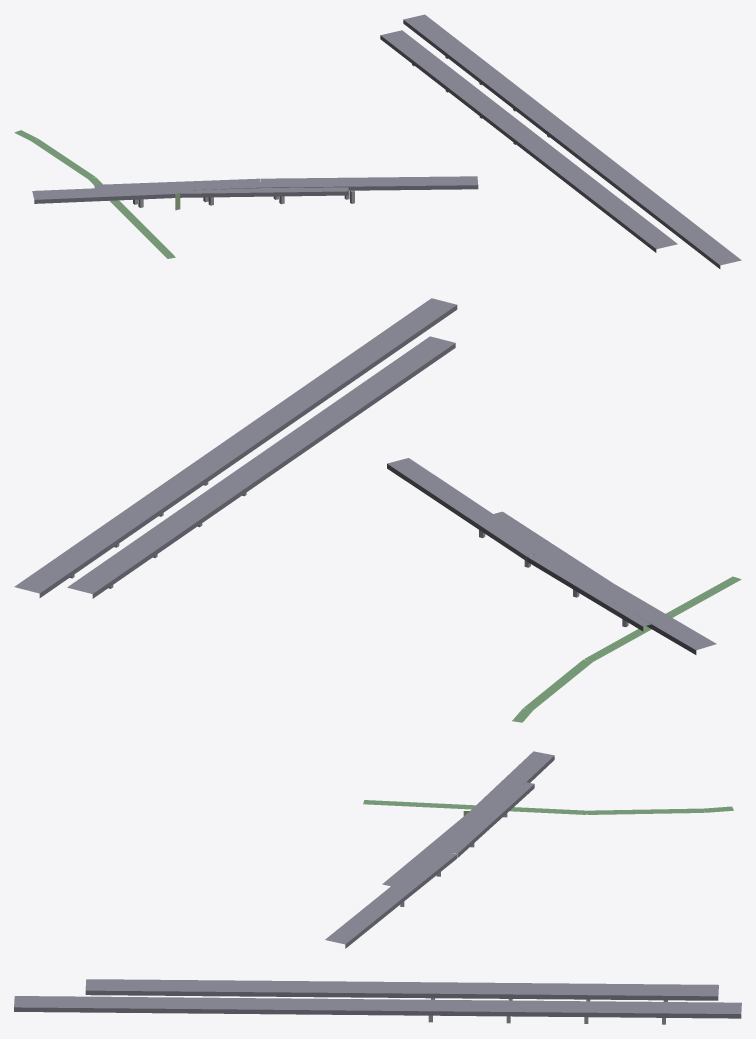
3 views of the same model, one above another, from view 1: azimuth 30°, elevation 25°; view 2: azimuth 150°, elevation 25°; view 3: azimuth 270°, elevation 25° (orthographic). The views are drawn at different scales.
Bounding box in the file's own units: 238 × 8.46 × 281.
